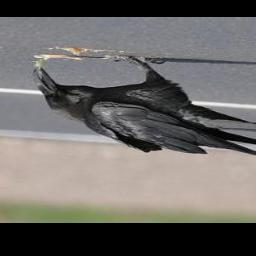Crow: (32, 56, 256, 158)
